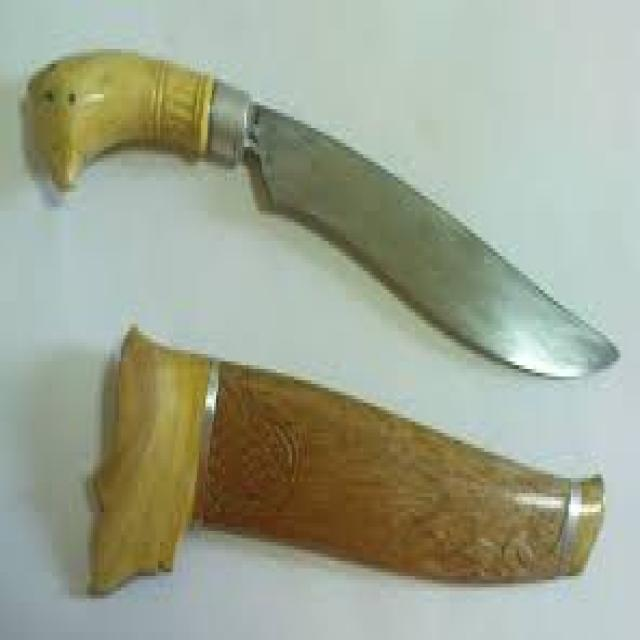Knife: (26, 49, 618, 376)
